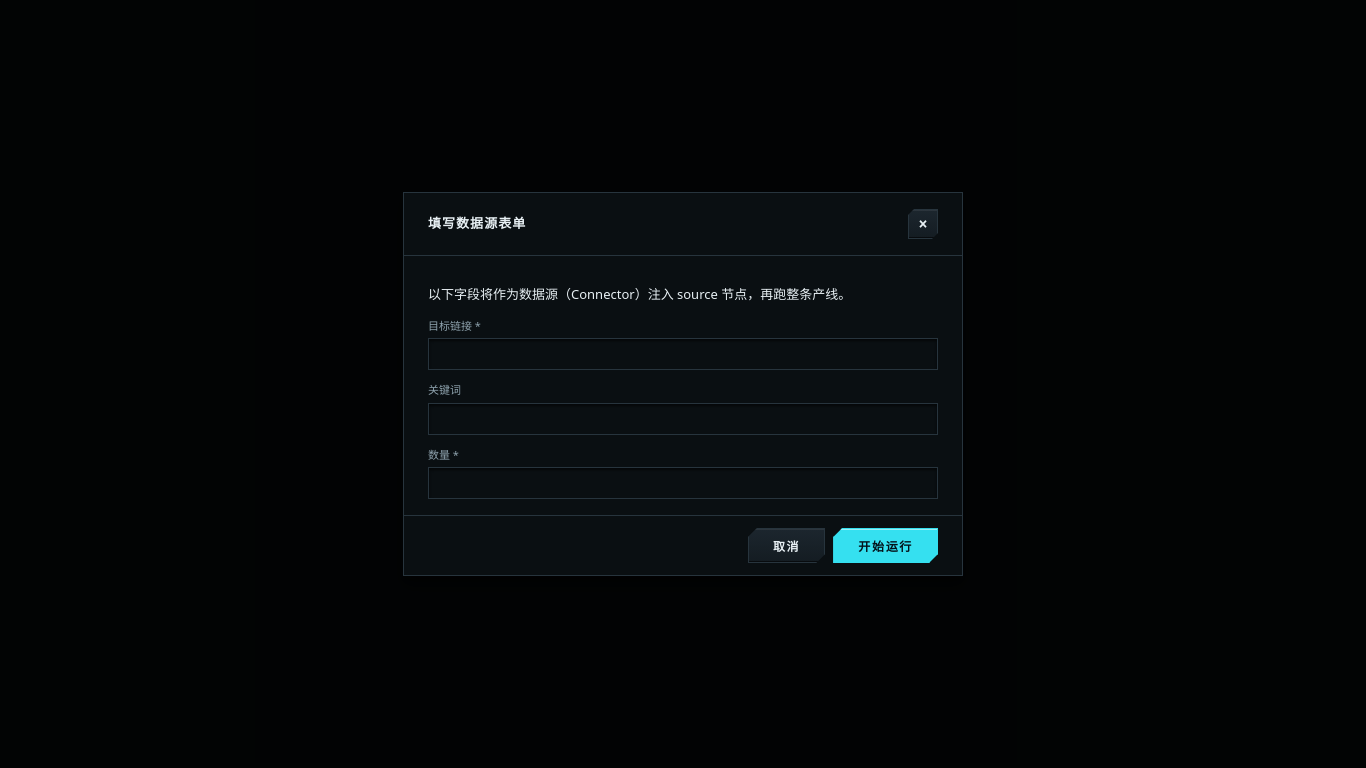
Test: FormConnectorModal › 必填验证 › 必填项为空时显示错误信息
The width and height of the screenshot is (1366, 768).
Click the button "开始运行" at (886, 546), box [833,528,938,563]
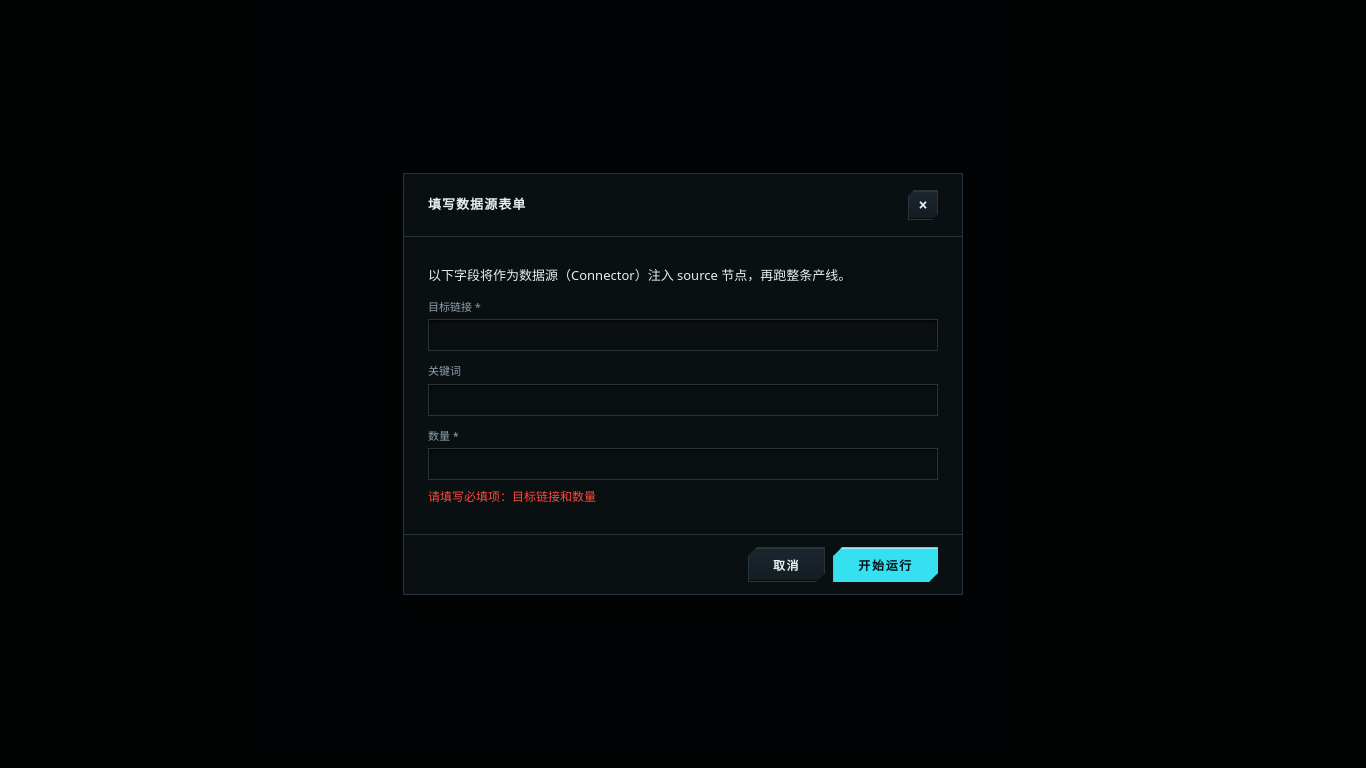
Expected: the text "请填写必填项" is shown, [428,488,596,505]
